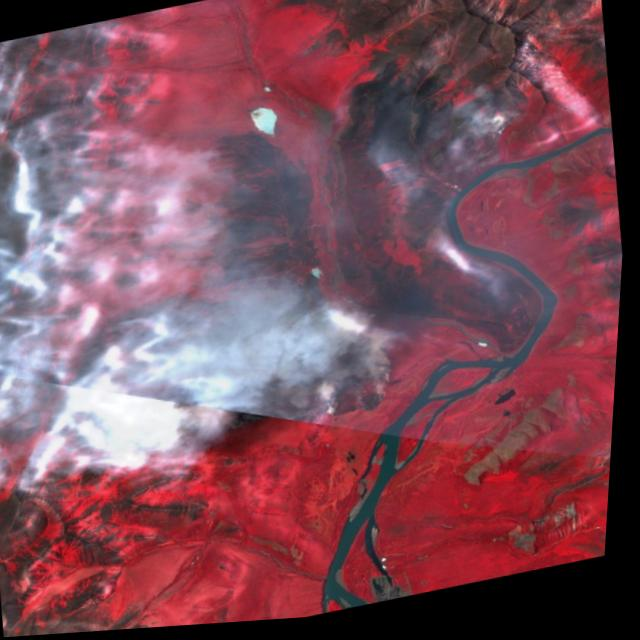fire: (76, 296, 414, 472), (468, 111, 531, 182)
